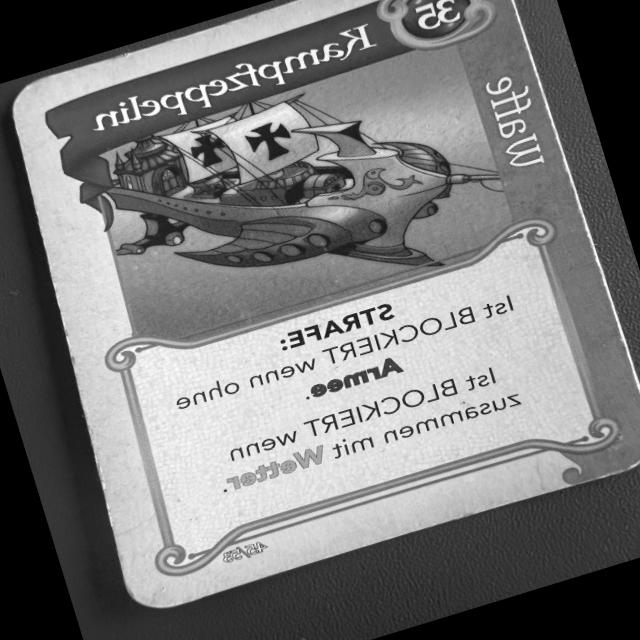War Dirigable: (3, 0, 640, 624)
